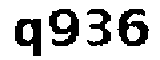3: (84, 3, 112, 50)
6: (117, 8, 148, 49)
9: (46, 8, 79, 49)
q: (12, 17, 43, 59)
